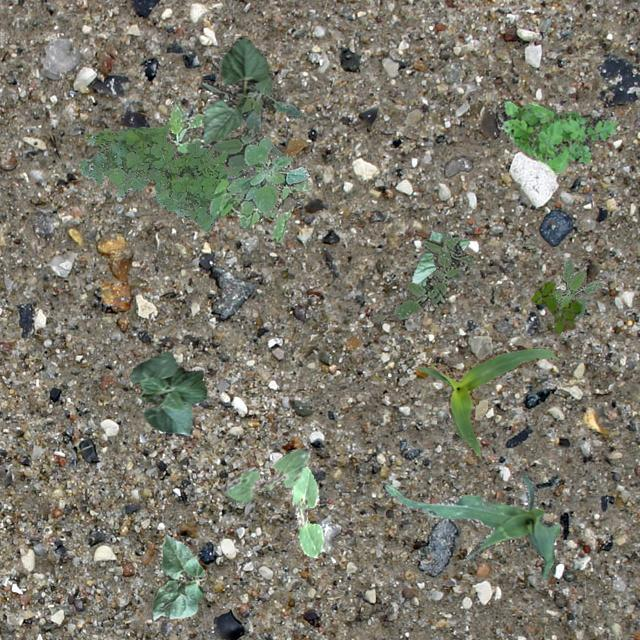crop: (384, 470, 558, 578), (416, 346, 558, 459), (200, 34, 268, 148), (128, 350, 206, 434), (222, 446, 310, 504), (150, 534, 206, 620), (411, 230, 468, 286), (290, 466, 324, 556)
weed: (167, 98, 310, 240), (77, 122, 249, 230), (200, 56, 302, 180), (368, 232, 472, 322), (496, 100, 618, 172), (225, 136, 308, 213), (552, 256, 602, 318), (530, 280, 580, 332)
